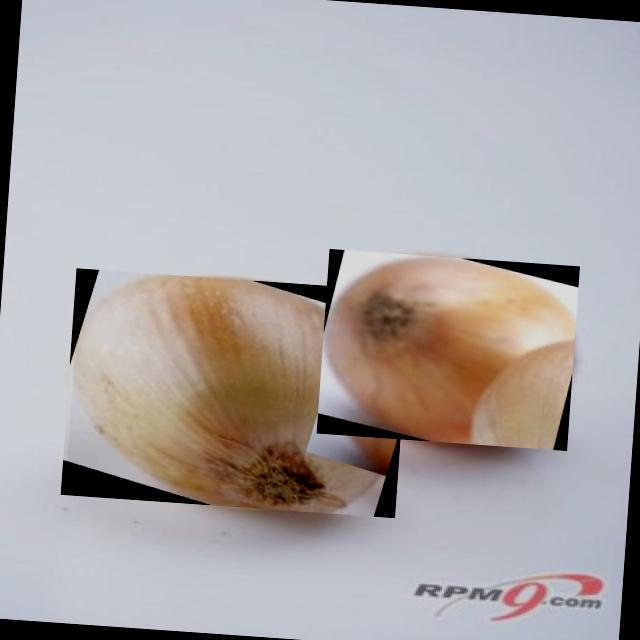healthy: (74, 274, 399, 513), (324, 255, 576, 442)
